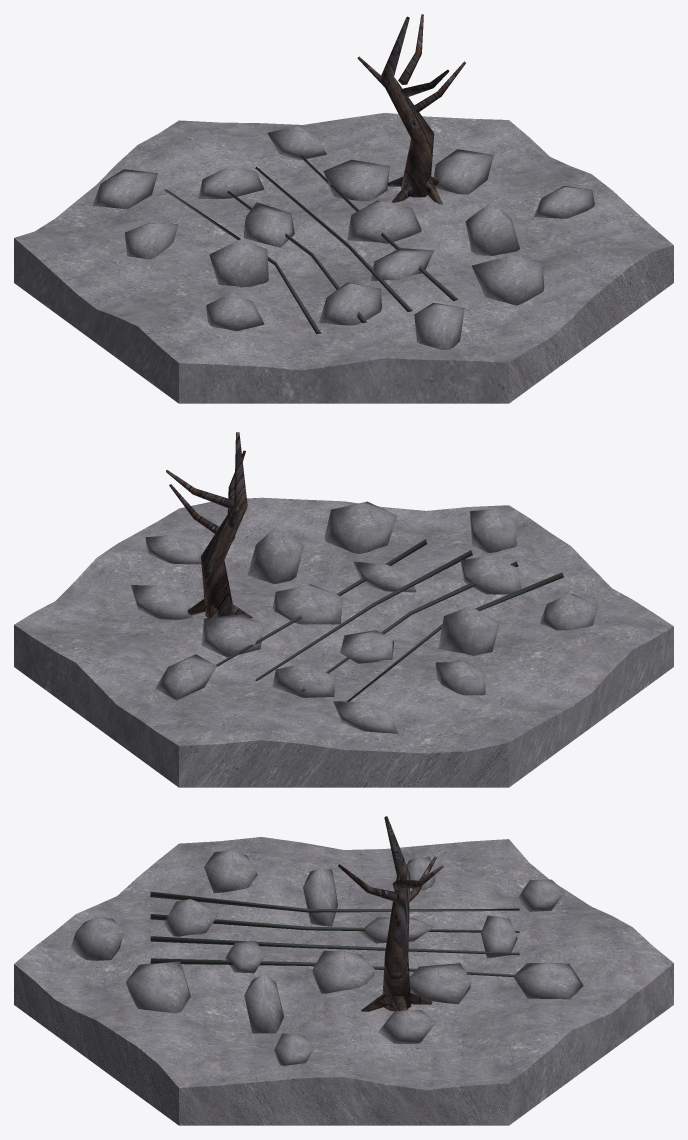
Rendered from env-terrain-wasteland-mobile.glb.
3 renders of one model, top to bottom at view 1: azimuth 30°, elevation 25°; view 2: azimuth 150°, elevation 25°; view 3: azimuth 270°, elevation 25°, orthographic.
Visible parts, largest first — view 1: terrain wasteland · authored textured miniature; view 2: terrain wasteland · authored textured miniature; view 3: terrain wasteland · authored textured miniature.
Boxes of the visible parts, x1=… form: terrain wasteland · authored textured miniature: x1=14, y1=14, x2=673, y2=403; terrain wasteland · authored textured miniature: x1=14, y1=432, x2=673, y2=787; terrain wasteland · authored textured miniature: x1=14, y1=816, x2=673, y2=1125.
Size of the model in its own units: 1.63 by 0.7216 by 1.88.
3 materials, 2 textured.
